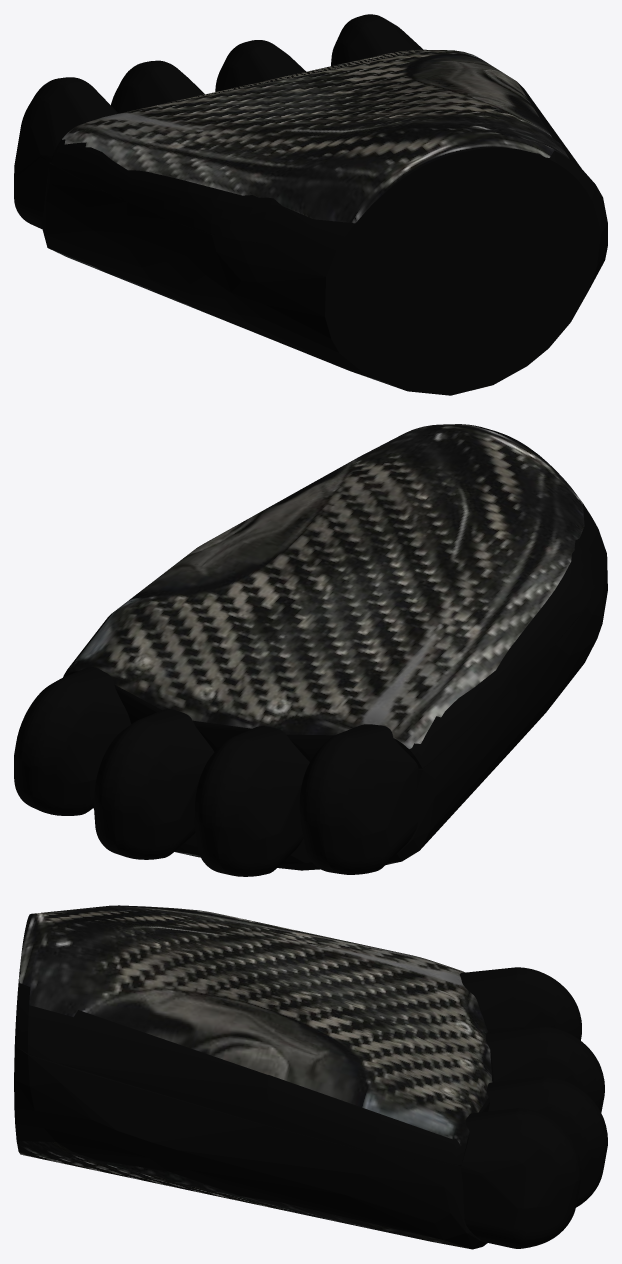
File: FB_pam_ref_MIR.glb
3 renders of one model, top to bottom at view 1: azimuth 30°, elevation 25°; view 2: azimuth 150°, elevation 25°; view 3: azimuth 270°, elevation 25°, orthographic. The views are drawn at different scales.
Visible parts, largest first — view 1: FB_palm_ref_MIR; view 2: FB_palm_ref_MIR; view 3: FB_palm_ref_MIR.
Part boxes in pixels (x1=…): FB_palm_ref_MIR: x1=14, y1=14, x2=607, y2=395; FB_palm_ref_MIR: x1=14, y1=424, x2=607, y2=876; FB_palm_ref_MIR: x1=14, y1=905, x2=607, y2=1249.
Size of the model in its own units: 0.0816 by 0.053 by 0.1106.
Materials: 1 (1 with a texture image).
